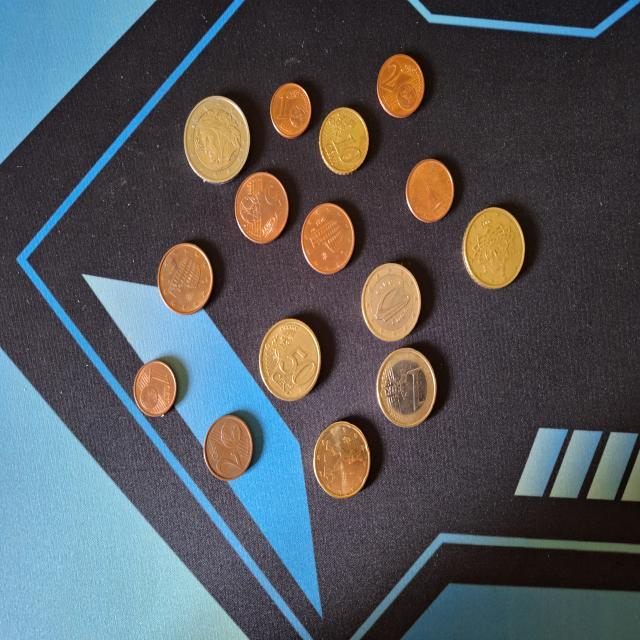10c: (314, 100, 376, 182)
1c: (130, 355, 183, 428), (266, 75, 316, 148)
1e: (366, 339, 446, 436), (354, 255, 428, 349)
20c: (302, 411, 380, 512)
2c: (400, 150, 464, 235), (370, 45, 433, 128), (201, 406, 260, 494)
2e: (180, 85, 254, 190)
50c: (458, 196, 537, 306), (254, 314, 332, 410)
5c: (155, 234, 218, 328), (298, 194, 362, 282), (229, 165, 295, 248)
